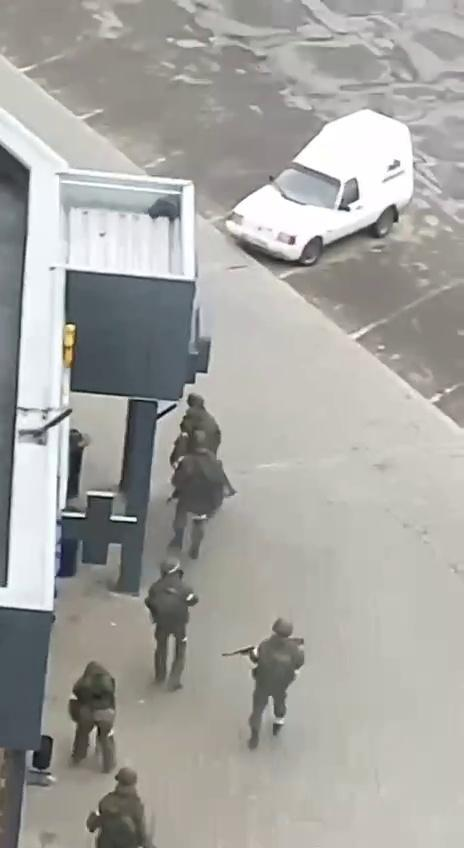car: (226, 108, 417, 266)
person: (139, 551, 198, 697), (248, 614, 302, 744), (172, 432, 228, 554), (66, 658, 117, 778), (87, 768, 159, 848), (177, 392, 231, 476)
